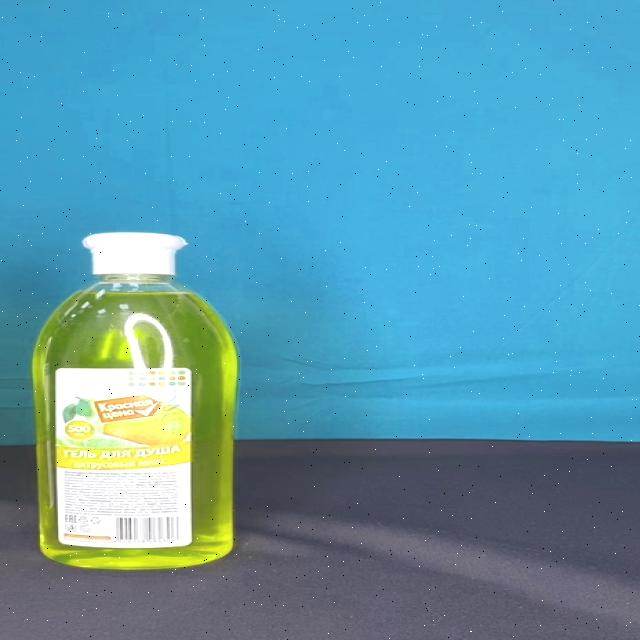Bottle: (31, 231, 239, 569)
Cap: (82, 232, 187, 276)
